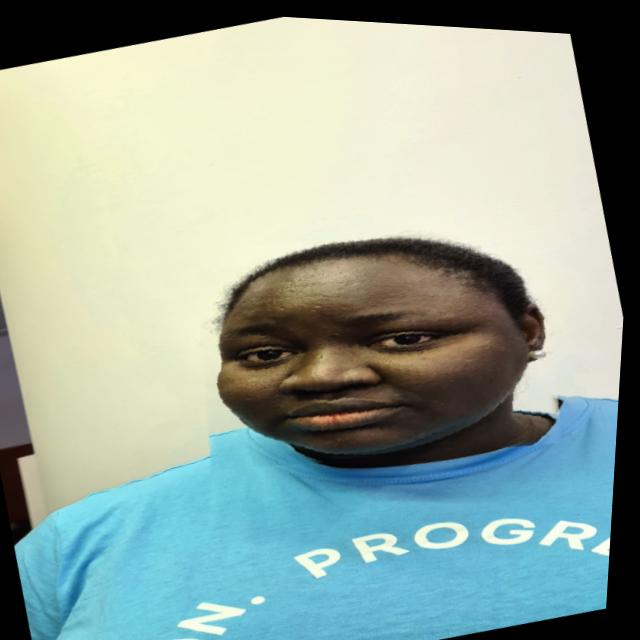sad: (170, 172, 593, 510)
